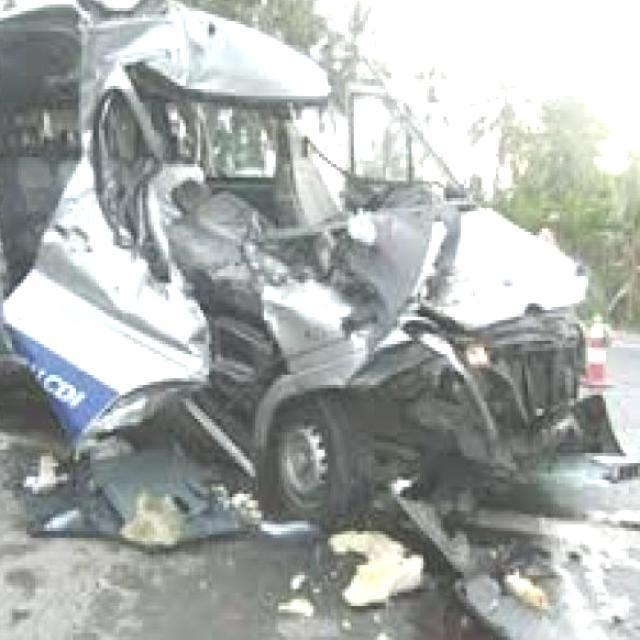accident: (0, 0, 629, 561)
